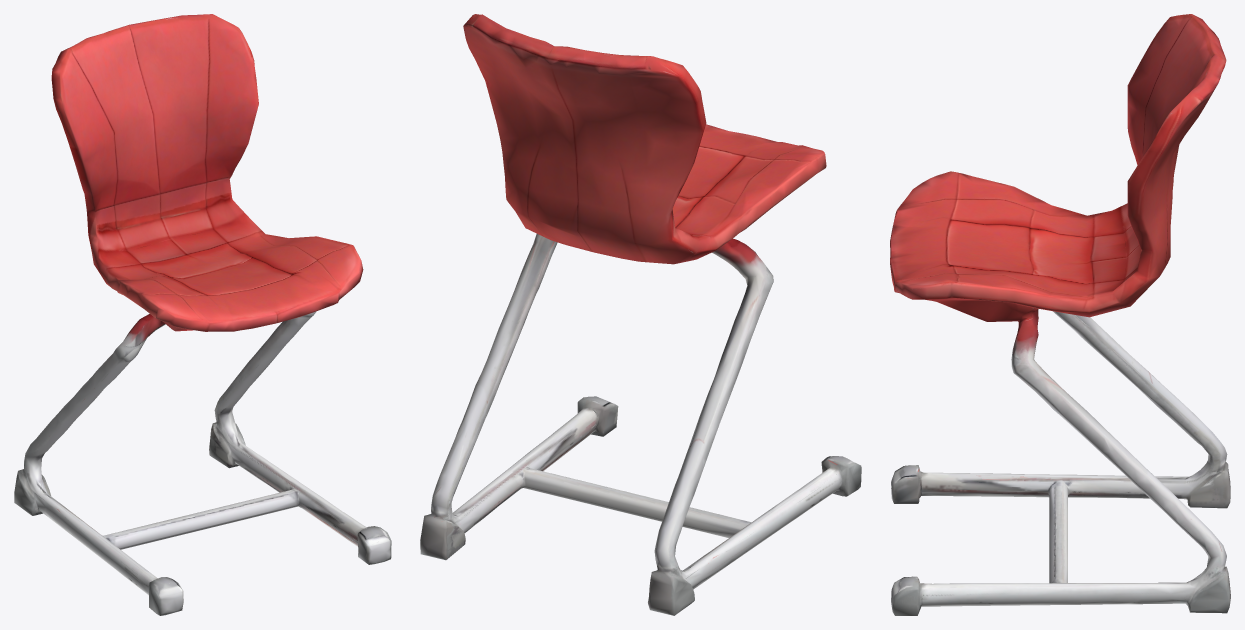
File: roter_stuhl_bearbeitet-v9.glb
The picture shows the model from 3 angles, left to right: view 1: azimuth 30°, elevation 25°; view 2: azimuth 150°, elevation 25°; view 3: azimuth 270°, elevation 25°; orthographic projection. The views are drawn at different scales.
Visible parts, largest first — view 1: Mesh10; view 2: Mesh10; view 3: Mesh10.
Part boxes in pixels (<box>): Mesh10: <box>14,14,391,615</box>; Mesh10: <box>420,14,861,615</box>; Mesh10: <box>890,14,1230,615</box>.
Bounding box in the file's own units: 1.06 × 1.98 × 1.22.
1 material, 1 textured.
